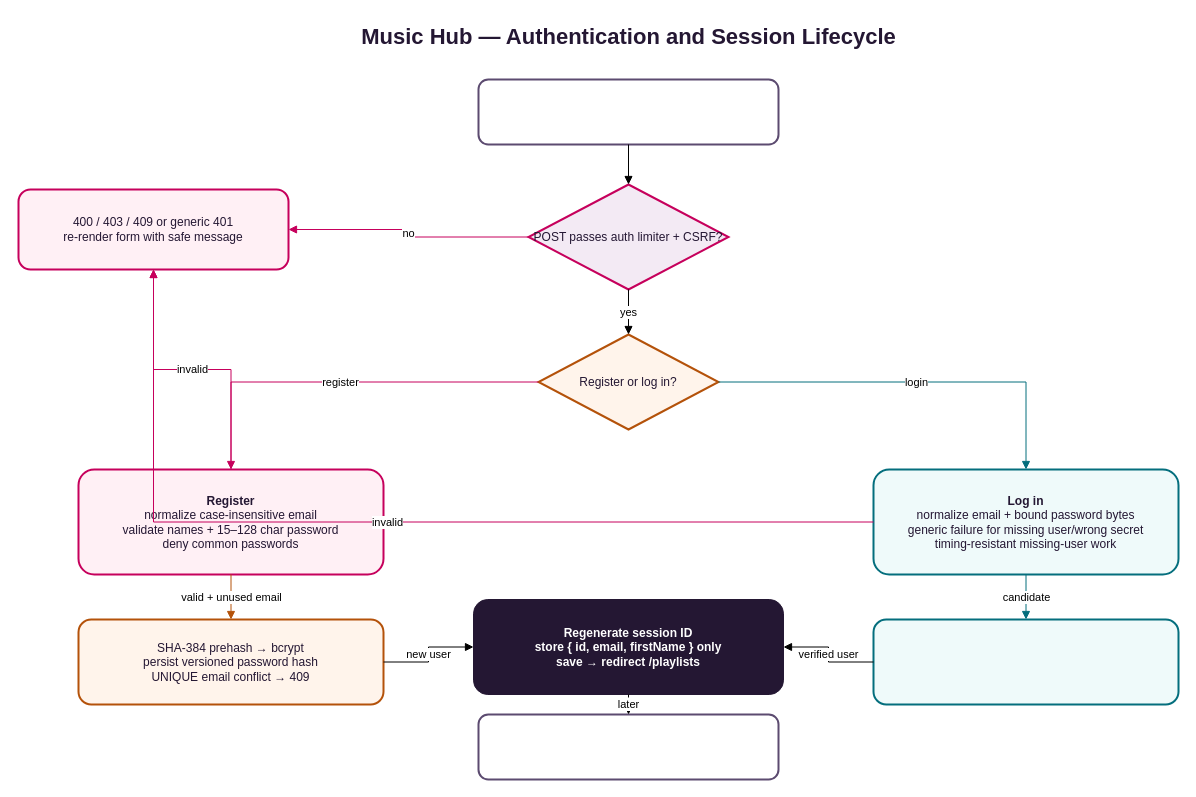
The diagram is 1196 pixels wide and 797 high, and some of its shapes have lost their labels. Here are the shapes that lost their labels. From the top down, the centre of each, then its label:
At point 628,111: "GET /login or /register issue synchronizer CSRF token".
At point 1025,661: "Verify versioned or legacy bcrypt successful legacy login upgrades hash".
At point 628,746: "POST /logout + CSRF destroy session → clear musichub.sid redirect /login".
